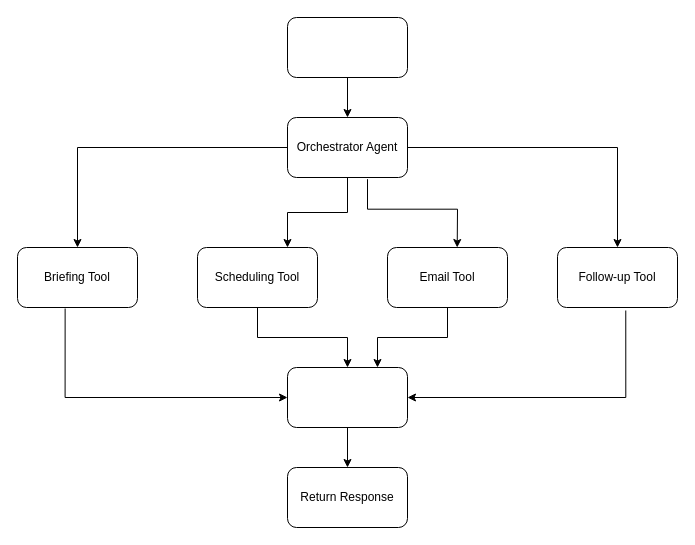
Image size: 695x545. Some labels were removed from this diagram. Each missing label, with the box of its shape:
Aggregate + log: (286, 366, 408, 428)
User(Chat Trigger): (286, 16, 408, 78)
